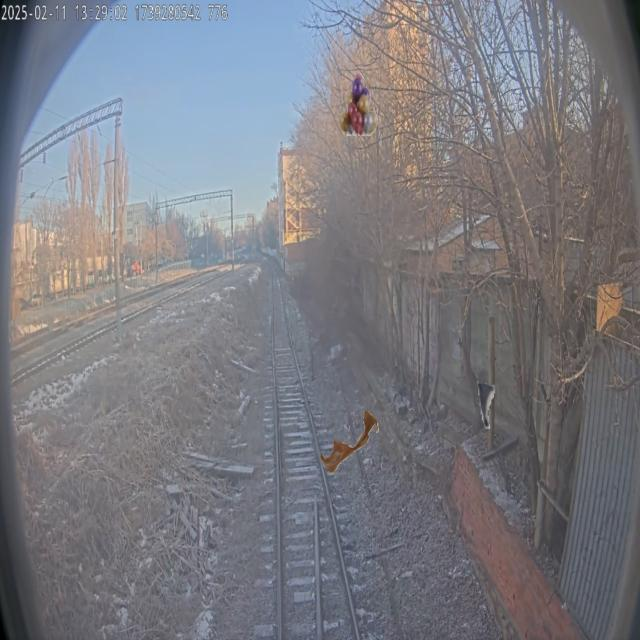balloon: (339, 72, 378, 136)
floating object: (320, 409, 379, 474), (476, 366, 495, 430)
